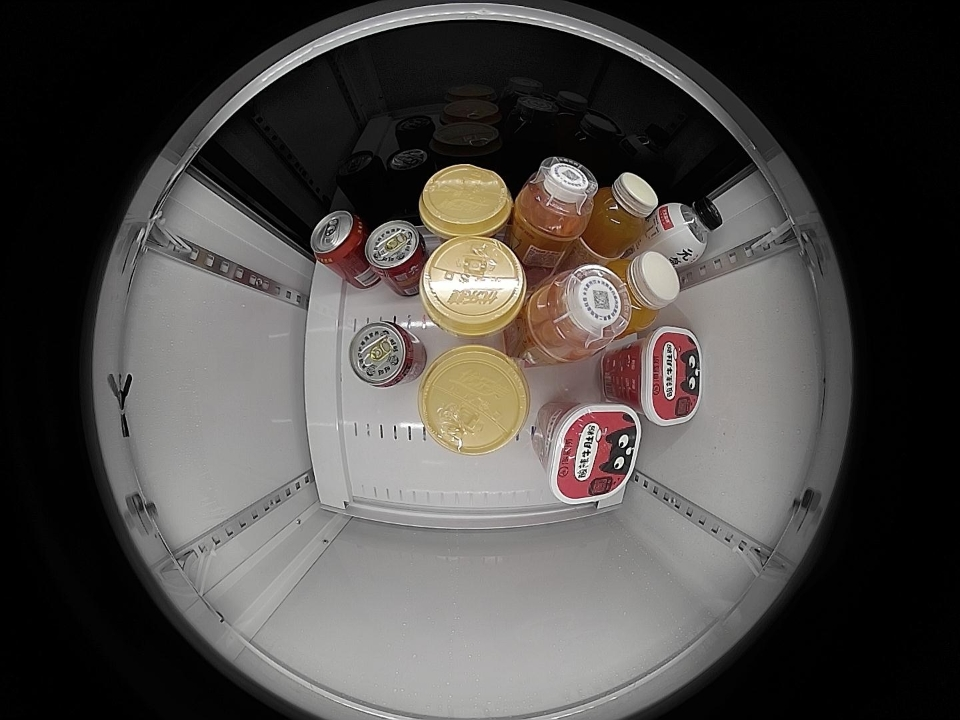dongpeng-b: (529, 264, 629, 361), (514, 156, 598, 243)
niudufen: (544, 401, 641, 503), (624, 326, 702, 426)
wanglaoji-c: (310, 211, 367, 266)
wangzainiunai: (349, 318, 424, 389), (366, 219, 427, 284)
weic: (597, 251, 681, 333), (582, 172, 658, 257)
youlemei: (418, 344, 530, 456), (419, 236, 527, 337), (418, 164, 513, 239)
yuanqishui: (657, 195, 724, 262)
